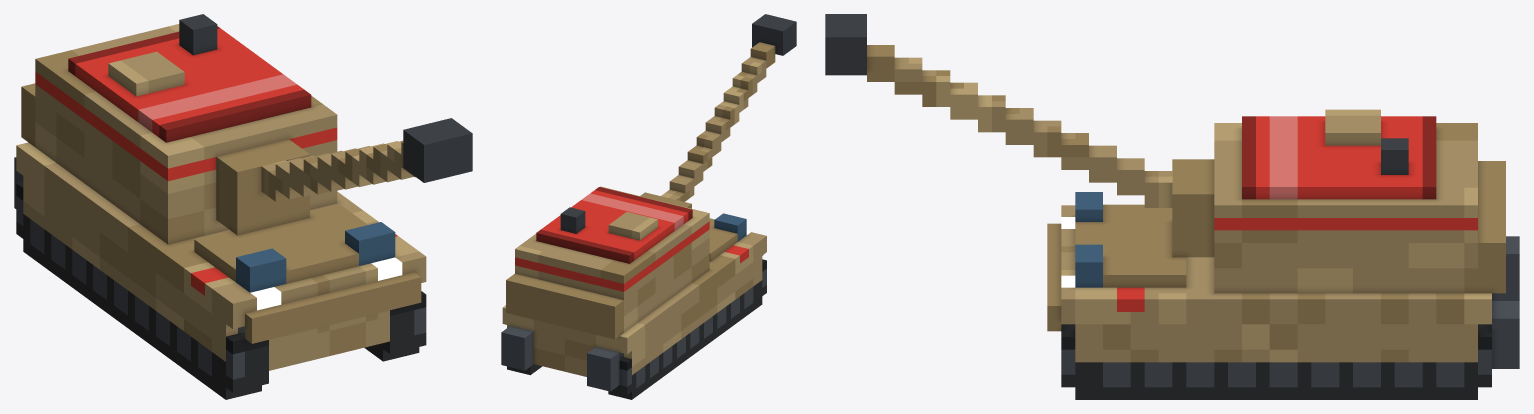
File: cm_artillery_0.glb
The picture shows the model from 3 angles, left to right: view 1: azimuth 30°, elevation 25°; view 2: azimuth 150°, elevation 25°; view 3: azimuth 270°, elevation 25°; orthographic projection. The views are drawn at different scales.
Parts seen in each view (by area): view 1: cm_artillery_0_body; view 2: cm_artillery_0_body; view 3: cm_artillery_0_body.
Part boxes in pixels (<box>): cm_artillery_0_body: <box>14,14,472,399</box>; cm_artillery_0_body: <box>501,14,796,399</box>; cm_artillery_0_body: <box>825,14,1519,399</box>.
Bounding box in the file's own units: 1 × 1.62 × 3.12.
Materials: 1 (1 with a texture image).
